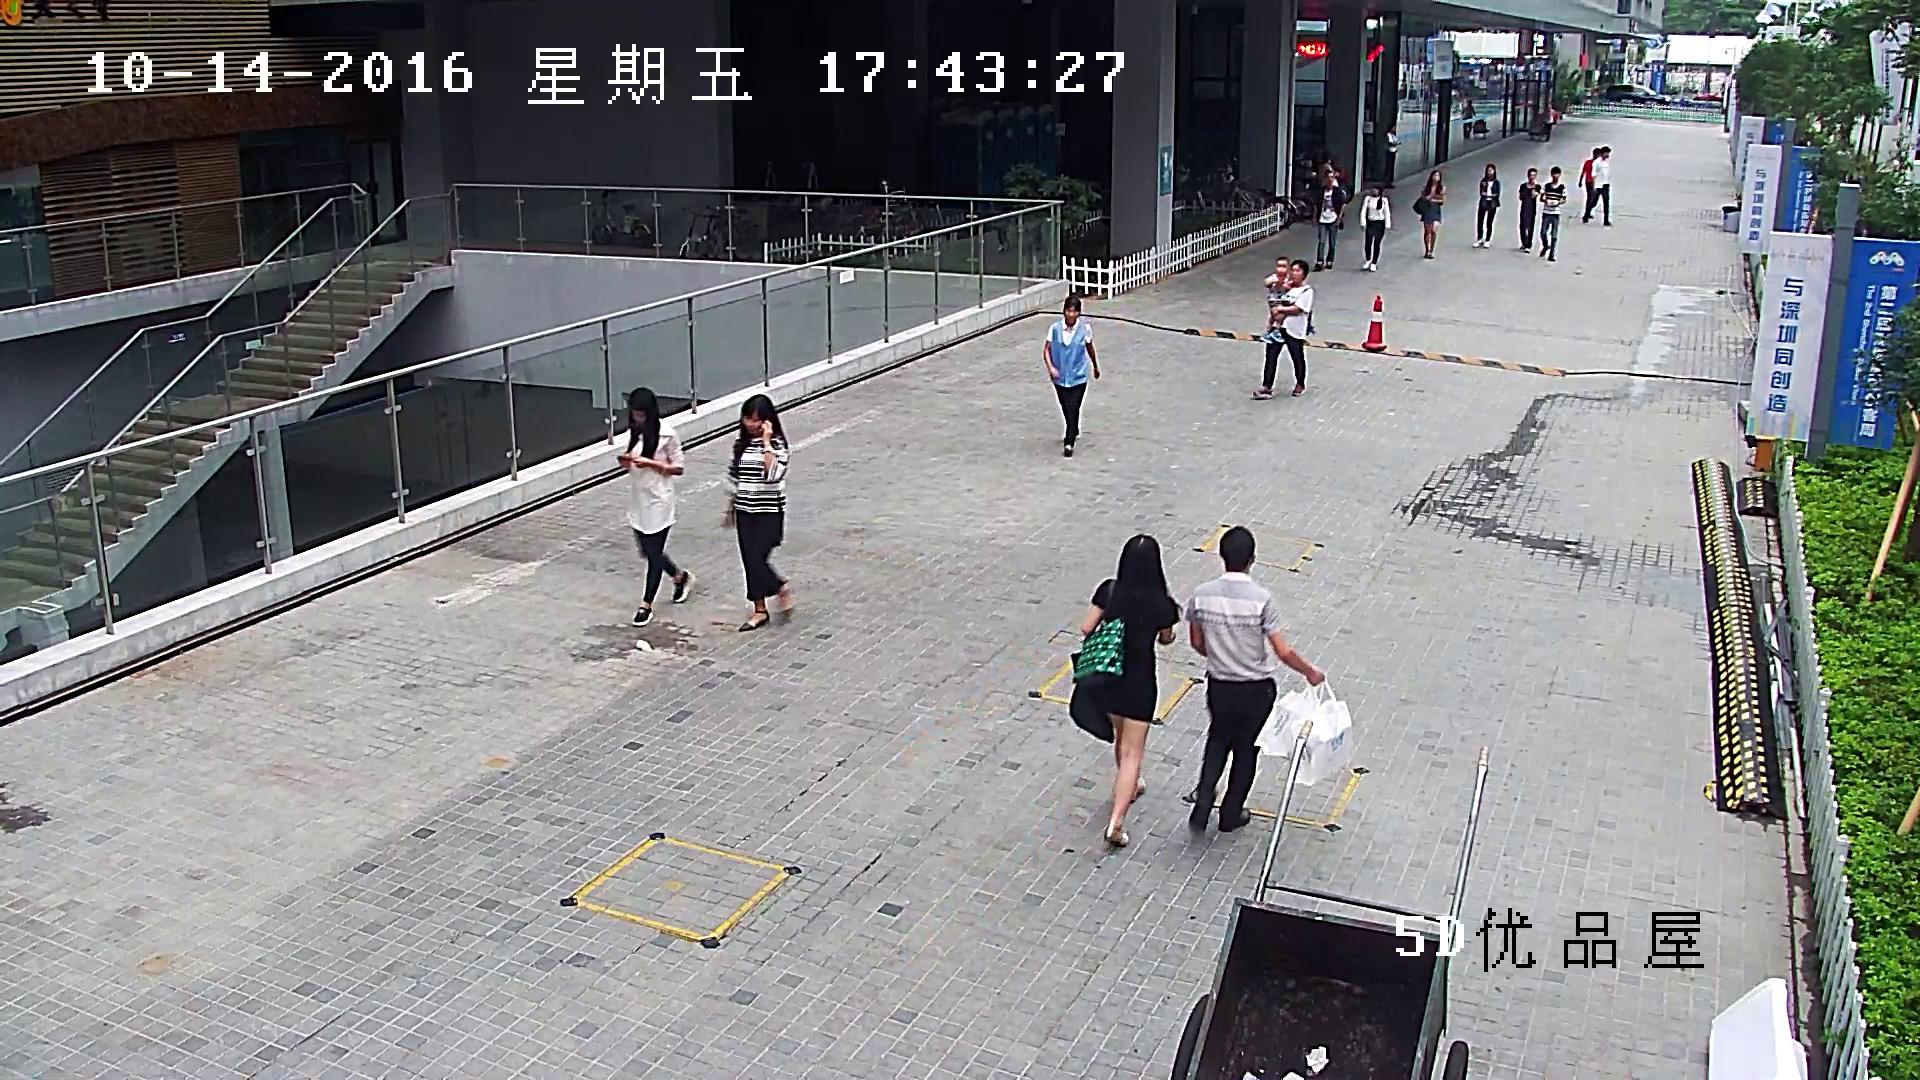person: (1185, 524, 1355, 833), (1186, 527, 1326, 833), (1069, 534, 1179, 845), (616, 387, 694, 625), (721, 395, 797, 629), (1250, 259, 1313, 399), (1043, 295, 1099, 455), (1313, 169, 1345, 269), (1412, 169, 1447, 258), (1360, 182, 1391, 270), (1539, 166, 1565, 262), (1260, 256, 1290, 342), (1472, 163, 1500, 249), (1583, 145, 1610, 224), (1519, 167, 1540, 252), (1458, 98, 1488, 139), (1384, 123, 1402, 188), (1529, 100, 1554, 143), (1578, 148, 1592, 217), (1317, 152, 1338, 188), (1459, 99, 1473, 137), (995, 216, 1009, 253), (1544, 101, 1554, 141)
